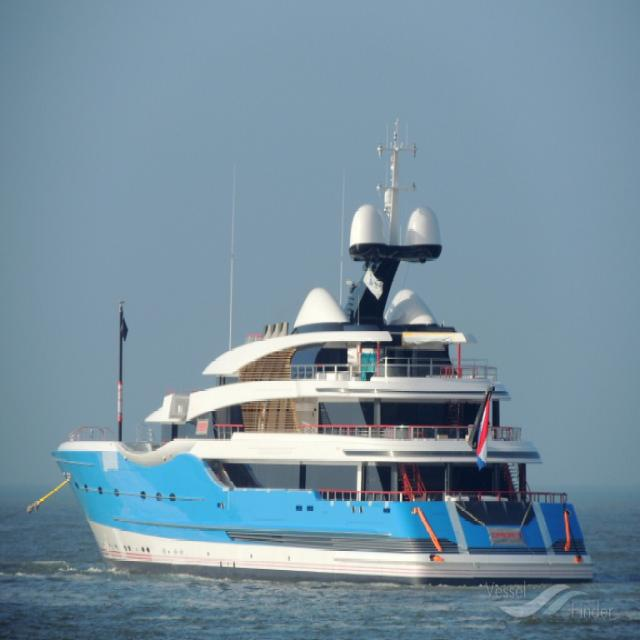Yacht: (52, 136, 594, 582)
